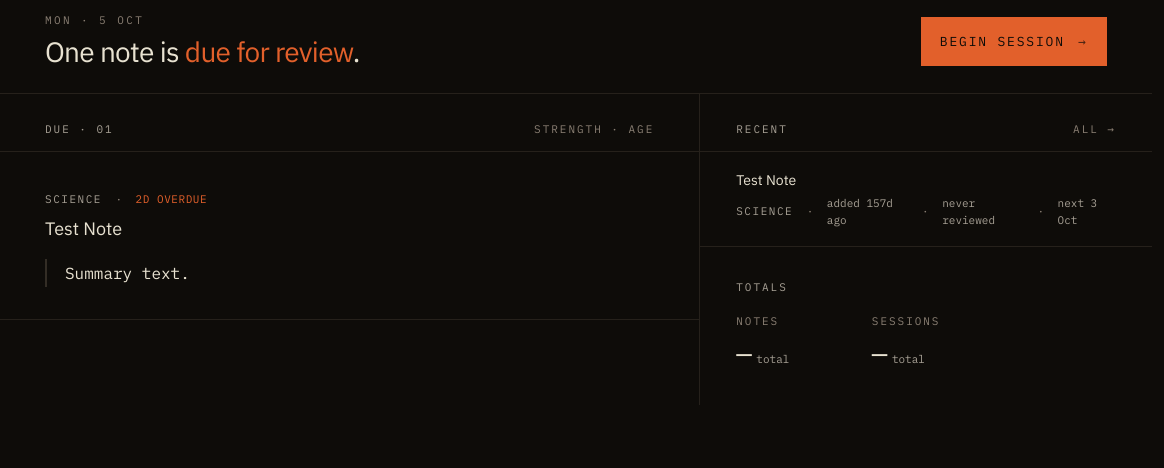
Dashboard — beginSession error › shows a persistent error with the full message when createSession rejects
Click the button "Begin session →" at point(1014, 41), box [921,17,1107,66]
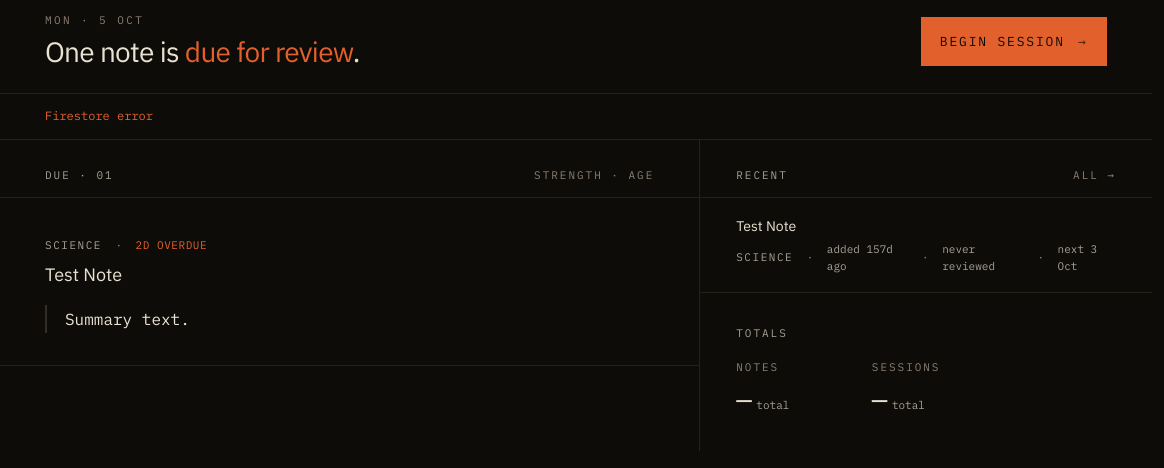
Expected: the message "Firestore error" is shown, [0,94,1152,140]
Expected: the message reads "Firestore error", [45,108,153,123]
